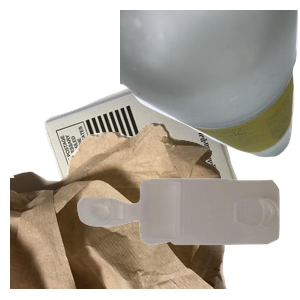glass: (120, 10, 300, 160)
paper: (42, 68, 275, 248)
plastic: (75, 176, 300, 300)
trash: (10, 120, 229, 300)
